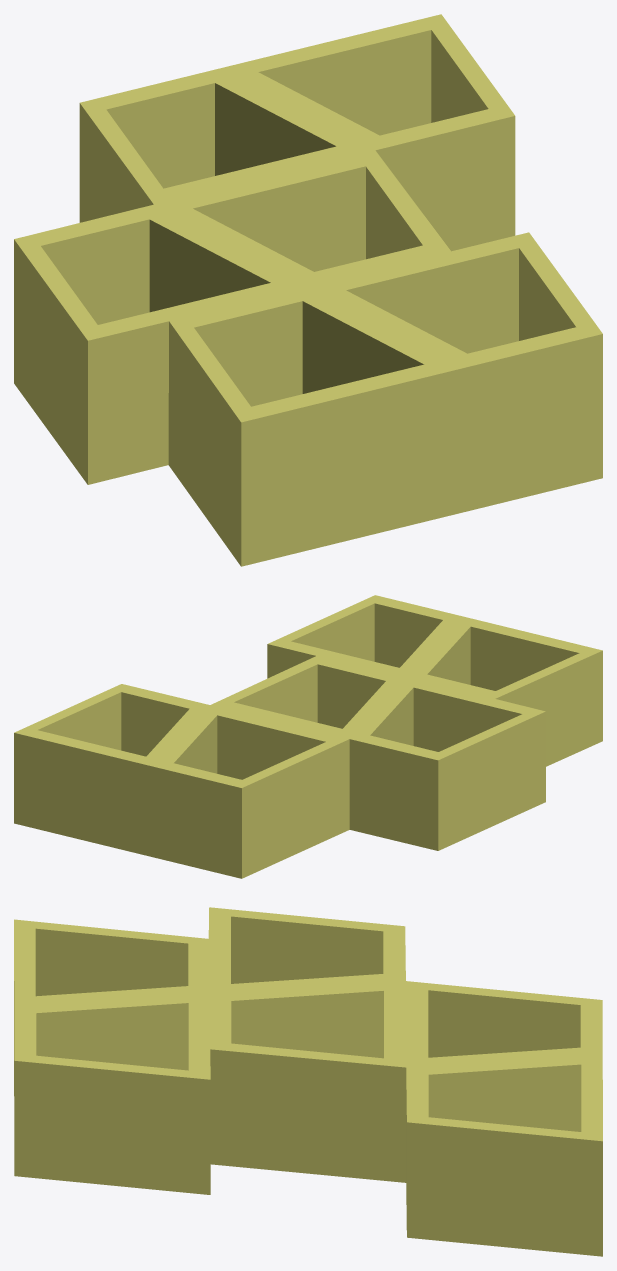
The model's file is shelf_green.FBX.
The picture shows the model from 3 angles, top to bottom: view 1: azimuth 30°, elevation 25°; view 2: azimuth 150°, elevation 25°; view 3: azimuth 270°, elevation 25°; orthographic projection. The views are drawn at different scales.
Parts seen in each view (by area): view 1: Box005; view 2: Box005; view 3: Box005.
Part boxes in pixels (box(x1,y1,x2,y2)): Box005: box(14, 14, 602, 566); Box005: box(14, 595, 602, 878); Box005: box(14, 907, 602, 1256).
Bounding box in the file's own units: 57.09 × 13.12 × 60.71.
Materials: 1 (1 with a texture image).
